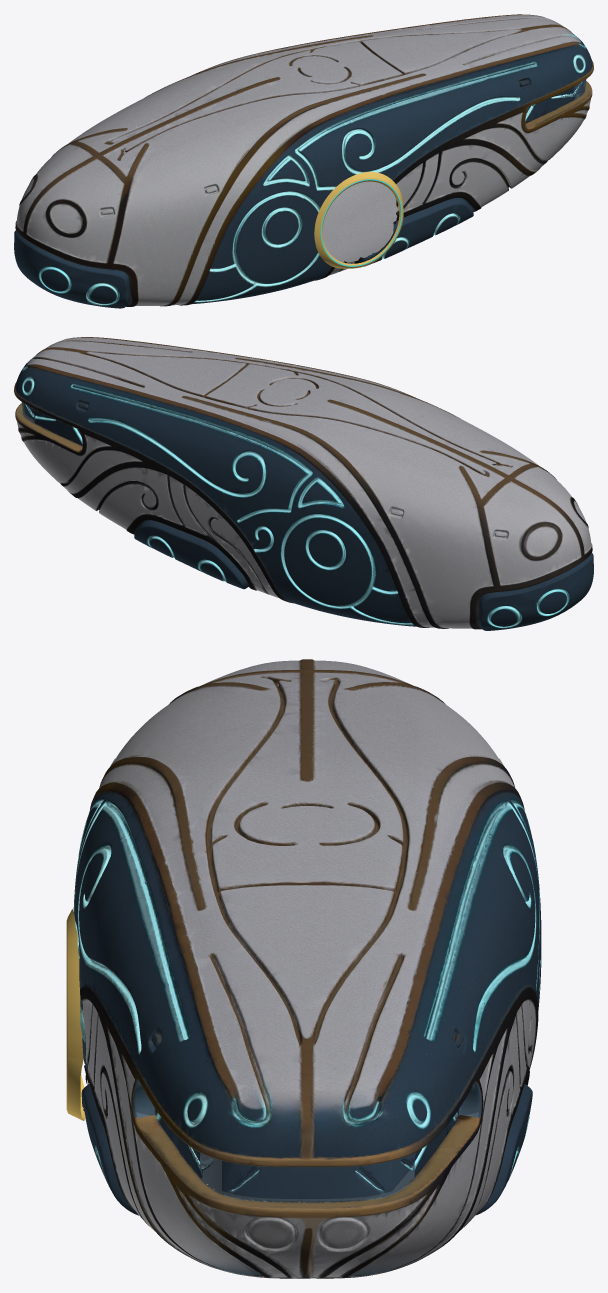
Rendered from starpod_pod_v8.glb.
3 views of the same model, one above another, from view 1: azimuth 30°, elevation 25°; view 2: azimuth 150°, elevation 25°; view 3: azimuth 270°, elevation 25° (orthographic). The views are drawn at different scales.
Bounding box in the file's own units: 1.9 × 0.5814 × 0.704.
3 materials, 2 textured.
